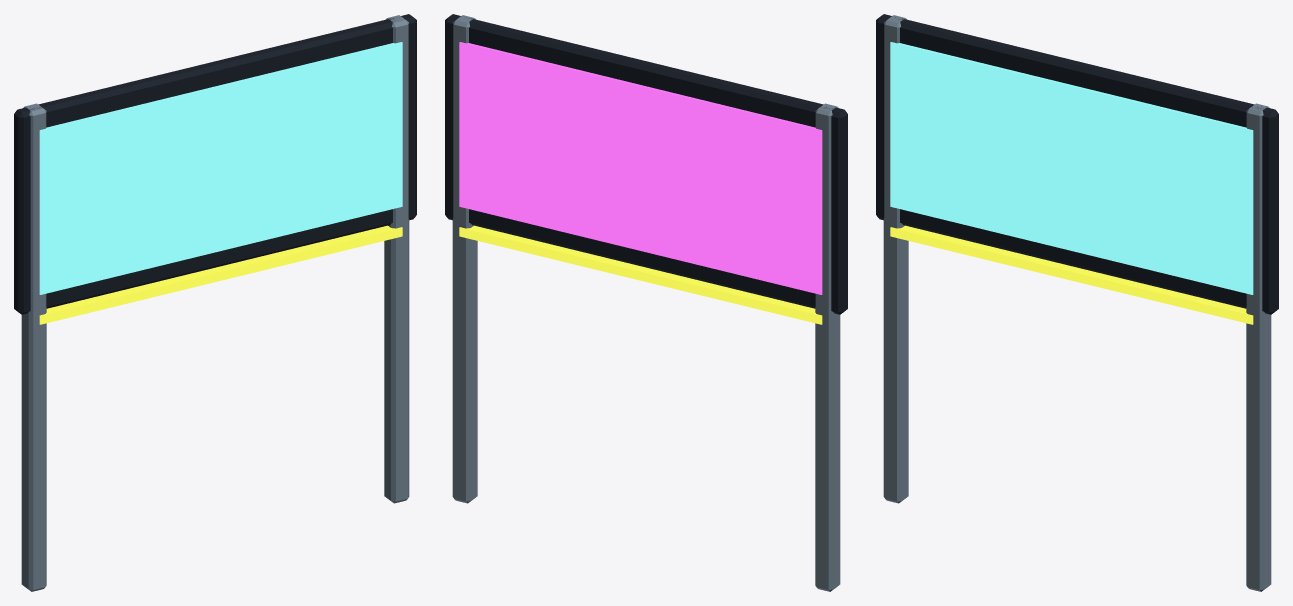
File: City_Billboard.fbx
3 views of the same model, side by side, from view 1: azimuth 30°, elevation 25°; view 2: azimuth 150°, elevation 25°; view 3: azimuth 330°, elevation 25° (orthographic).
Parts seen in each view (by area): view 1: City_Billboard; view 2: City_Billboard; view 3: City_Billboard.
Part boxes in pixels (x1,y1,x2,y2): City_Billboard: (14, 14, 416, 591); City_Billboard: (445, 14, 847, 591); City_Billboard: (876, 14, 1278, 591).
Bounding box in the file's own units: 6.6 × 0.34 × 7.6.
